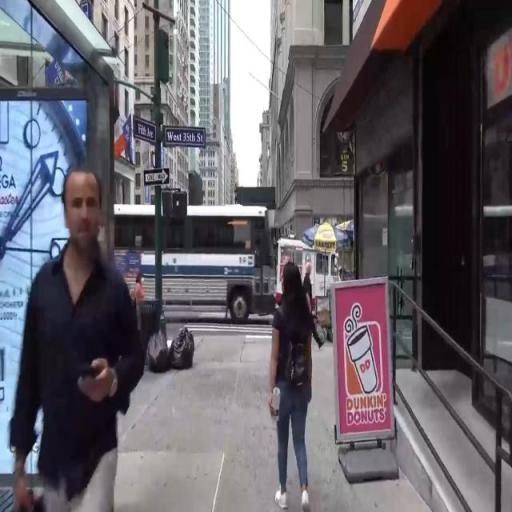person: (11, 170, 145, 512), (270, 264, 315, 512)
